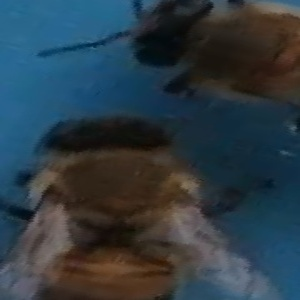bee: (7, 111, 272, 300), (38, 3, 300, 104)
